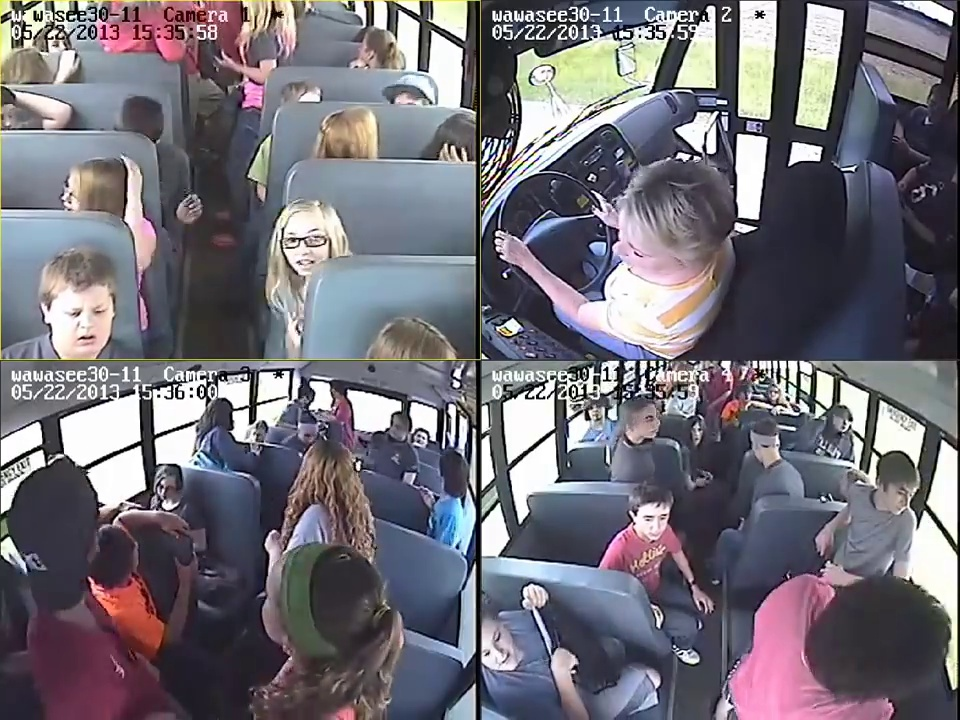face: (610, 223, 669, 280), (53, 299, 112, 355), (483, 614, 518, 673), (284, 227, 328, 273), (57, 174, 92, 210), (631, 410, 662, 443), (640, 504, 668, 538), (156, 475, 179, 502), (827, 411, 852, 431), (586, 400, 608, 421), (411, 429, 430, 447), (687, 425, 702, 445)
